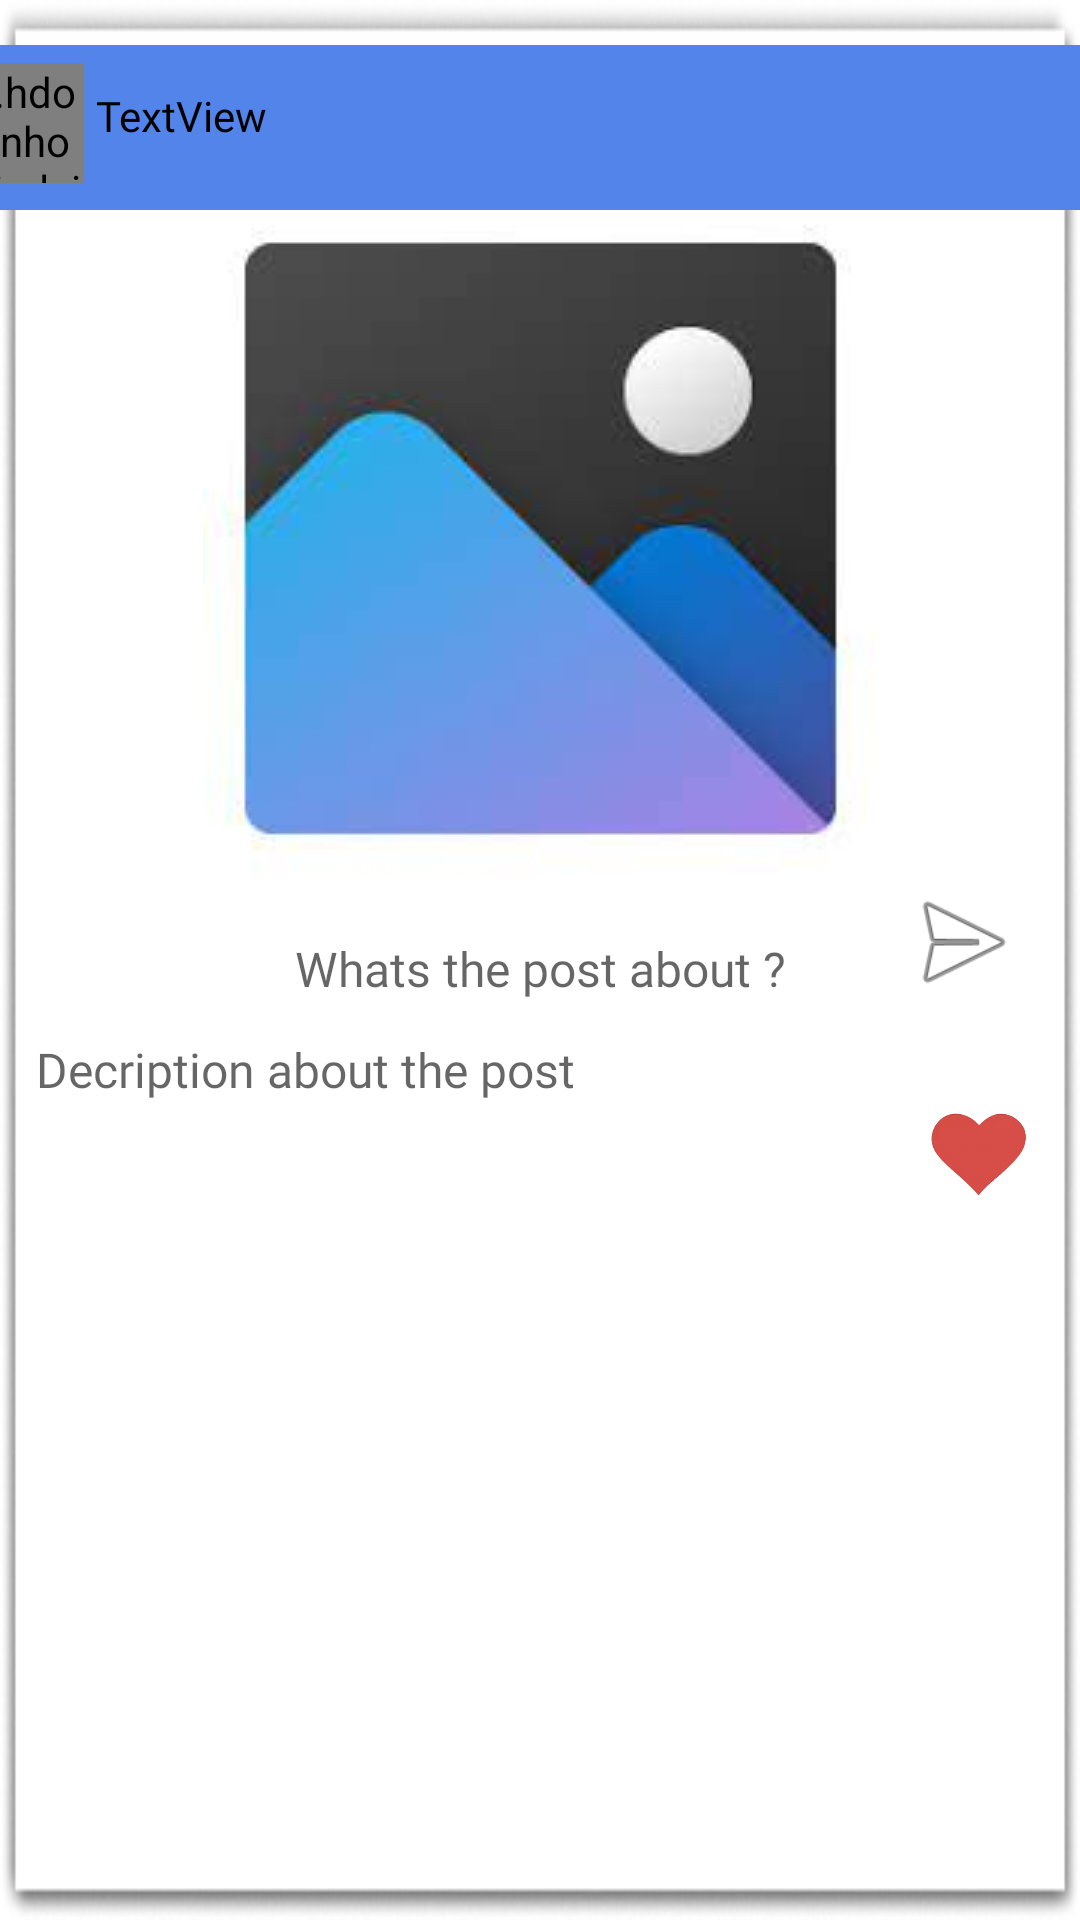

Icons on this 1080px×1920px Android screen, each with the point to tap as [x,y]:
like: [978,1154]
send: [964,942]
